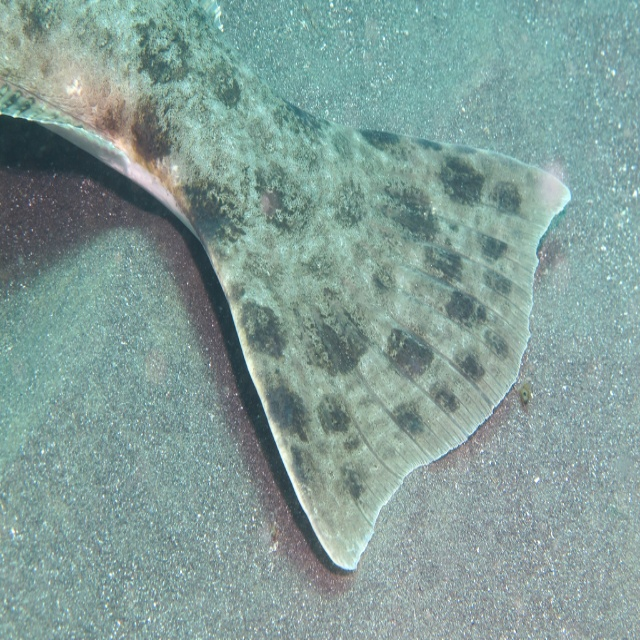Fish: (0, 0, 572, 568)
